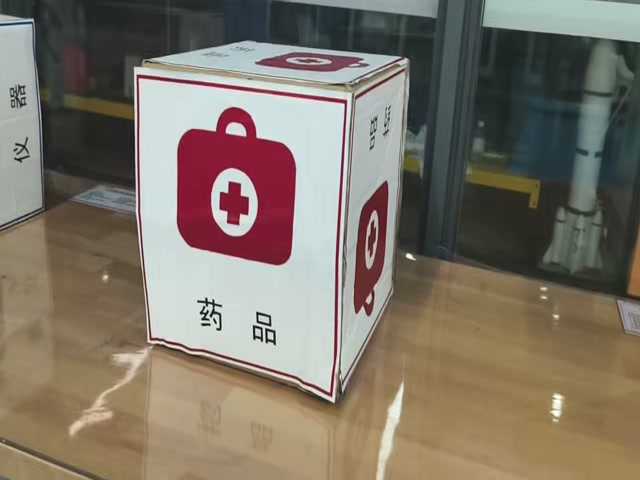Cube_medicine: (137, 36, 412, 94)
